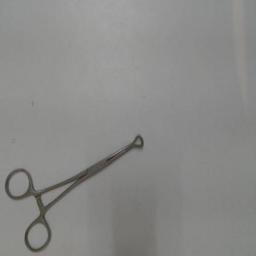Babcock Tissue Forceps: (3, 129, 147, 253)
